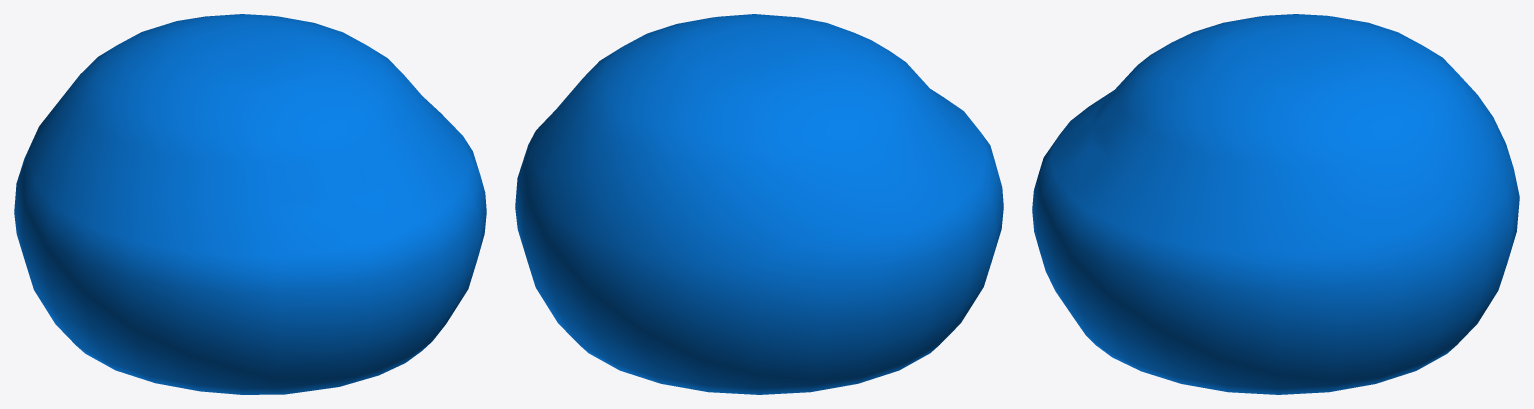
The model's file is slime_jump1.0.fbx.
3 views of the same model, side by side, from view 1: azimuth 30°, elevation 25°; view 2: azimuth 150°, elevation 25°; view 3: azimuth 270°, elevation 25° (orthographic). The views are drawn at different scales.
Parts seen in each view (by area): view 1: Circle; view 2: Circle; view 3: Circle.
Boxes of the visible parts, x1,y1,x2,y2 form: Circle: (14,14,486,394); Circle: (515,14,1003,394); Circle: (1032,14,1519,394).
Size of the model in its own units: 190 by 122 by 193.
